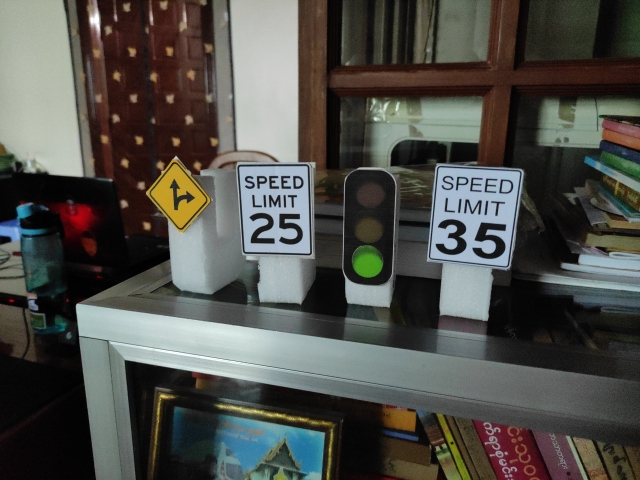Green Traffic Light: (343, 167, 398, 288)
Speed Limit 25: (236, 162, 318, 258)
Speed Limit 35: (428, 164, 522, 269)
Straight Or Right Sign: (148, 159, 210, 230)
